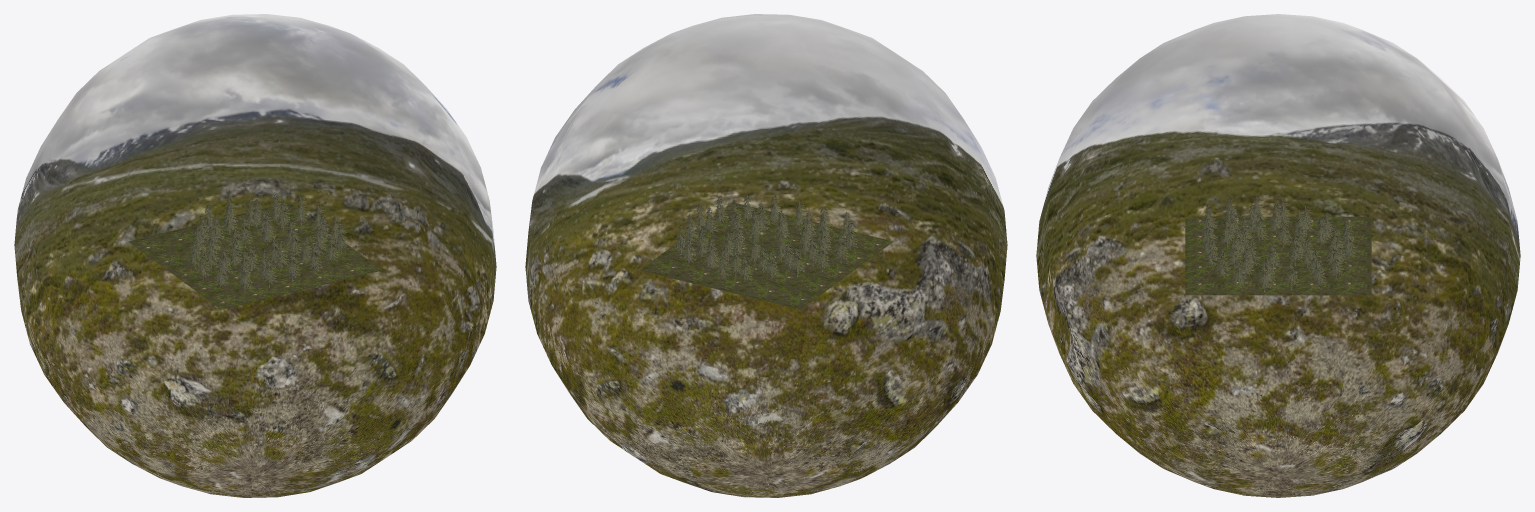
File: pine_forest.glb
3 renders of one model, left to right at view 1: azimuth 30°, elevation 25°; view 2: azimuth 150°, elevation 25°; view 3: azimuth 270°, elevation 25°, orthographic.
Visible parts, largest first — view 1: obj2_2, obj1_1, pine1_0; view 2: obj2_2, obj1_1, pine1_0; view 3: obj2_2, obj1_1, pine1_0.
Boxes of the visible parts, x1,y1,x2,y2 form: obj2_2: (14,14,496,497); obj1_1: (128,202,382,309); pine1_0: (189,193,348,291); obj2_2: (525,14,1007,497); obj1_1: (639,202,893,309); pine1_0: (675,194,857,281); obj2_2: (1036,14,1520,497); obj1_1: (1185,216,1371,295); pine1_0: (1201,195,1355,291).
Size of the model in its own units: 141 by 141 by 141.
3 materials, 3 textured.
